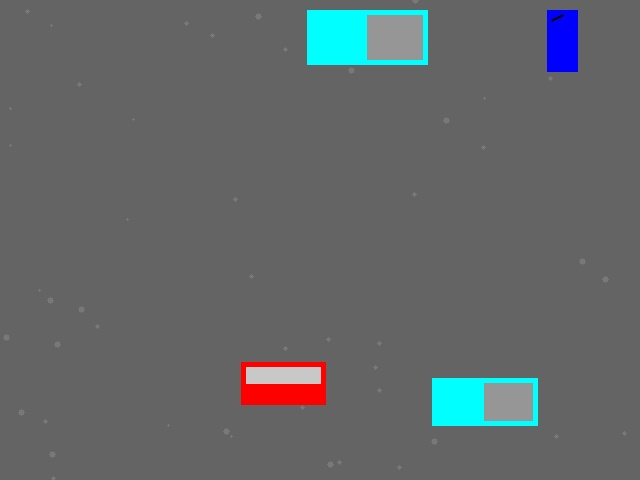car: (241, 362, 325, 404)
motorcycle: (547, 10, 577, 71)
truck: (307, 10, 427, 64), (432, 378, 537, 425)
